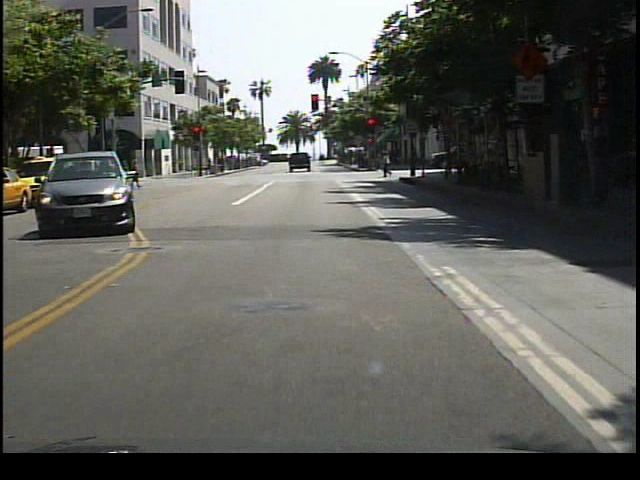person: (410, 144, 425, 174), (380, 151, 395, 178)
